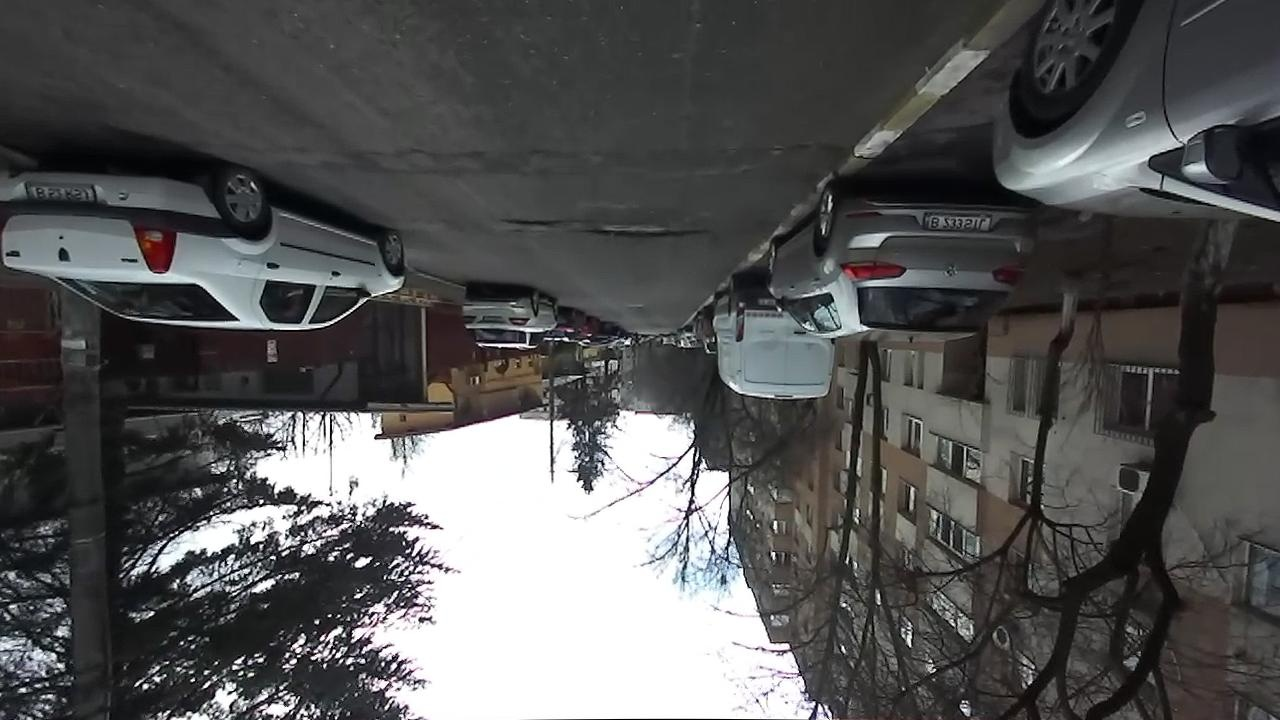pothole: (580, 218, 713, 241), (768, 134, 844, 156), (499, 215, 575, 229)
